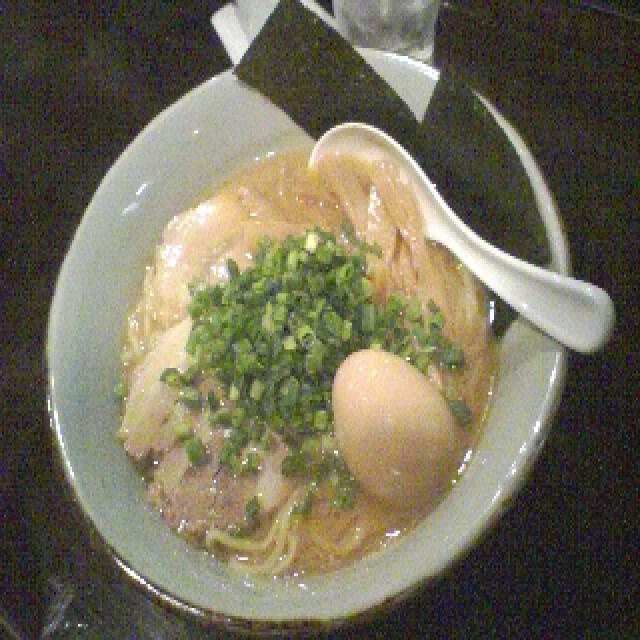面条主食: (32, 0, 620, 640)
